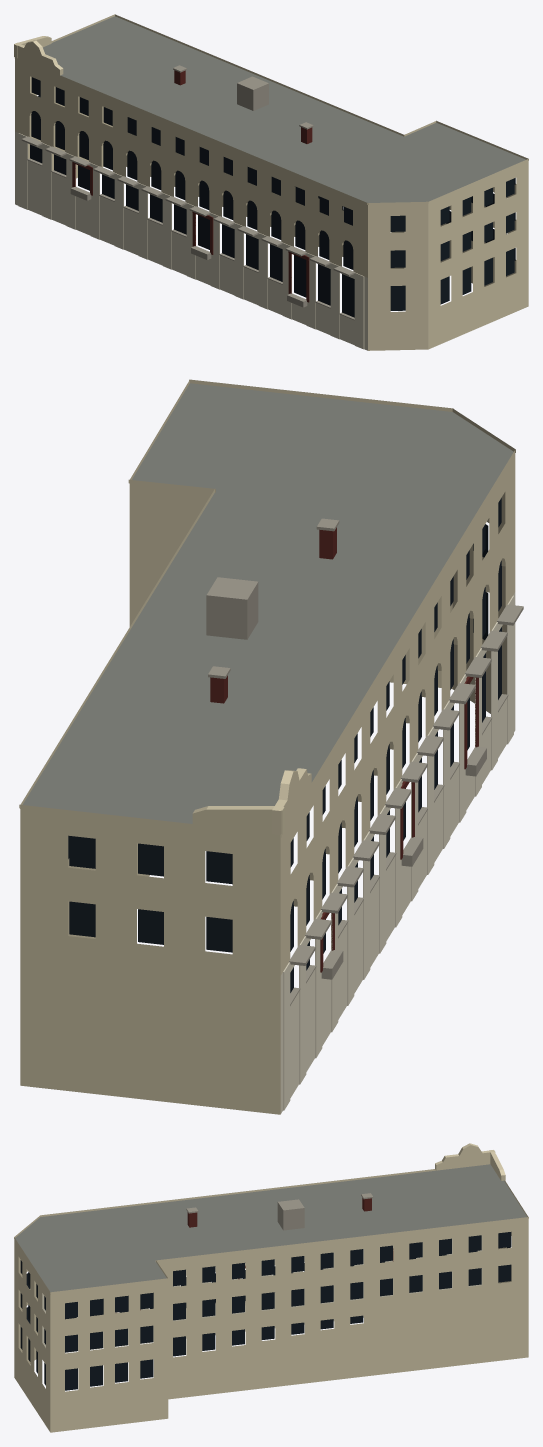
File: bmorskaya27.lod.glb
3 renders of one model, top to bottom at view 1: azimuth 30°, elevation 25°; view 2: azimuth 150°, elevation 25°; view 3: azimuth 270°, elevation 25°, orthographic. The views are drawn at different scales.
Parts seen in each view (by area): view 1: bmorskaya27_wall, bmorskaya27_roof, bmorskaya27_wall2, bmorskaya27_glass, bmorskaya27_stone, bmorskaya27_wall3; view 2: bmorskaya27_roof, bmorskaya27_wall, bmorskaya27_wall2, bmorskaya27_stone, bmorskaya27_glass, bmorskaya27_wall3; view 3: bmorskaya27_wall, bmorskaya27_roof, bmorskaya27_glass, bmorskaya27_wall2, bmorskaya27_stone.
Part boxes in pixels (left/top/right/bottom): bmorskaya27_wall: left=14, top=14, right=528, bottom=350; bmorskaya27_roof: left=43, top=16, right=525, bottom=202; bmorskaya27_wall2: left=15, top=131, right=367, bottom=350; bmorskaya27_glass: left=30, top=77, right=515, bottom=317; bmorskaya27_stone: left=21, top=65, right=354, bottom=320; bmorskaya27_wall3: left=72, top=70, right=312, bottom=302; bmorskaya27_roof: left=23, top=383, right=513, bottom=823; bmorskaya27_wall: left=19, top=379, right=515, bottom=1114; bmorskaya27_wall2: left=280, top=592, right=515, bottom=1113; bmorskaya27_stone: left=206, top=518, right=523, bottom=1005; bmorskaya27_glass: left=68, top=498, right=501, bottom=992; bmorskaya27_wall3: left=210, top=527, right=478, bottom=972; bmorskaya27_wall: left=14, top=1143, right=528, bottom=1432; bmorskaya27_roof: left=15, top=1164, right=526, bottom=1292; bmorskaya27_glass: left=20, top=1232, right=511, bottom=1390; bmorskaya27_wall2: left=42, top=1235, right=482, bottom=1352; bmorskaya27_stone: left=186, top=1193, right=373, bottom=1308.
Bounding box in the file's own units: 31.02 × 17.75 × 51.17.
